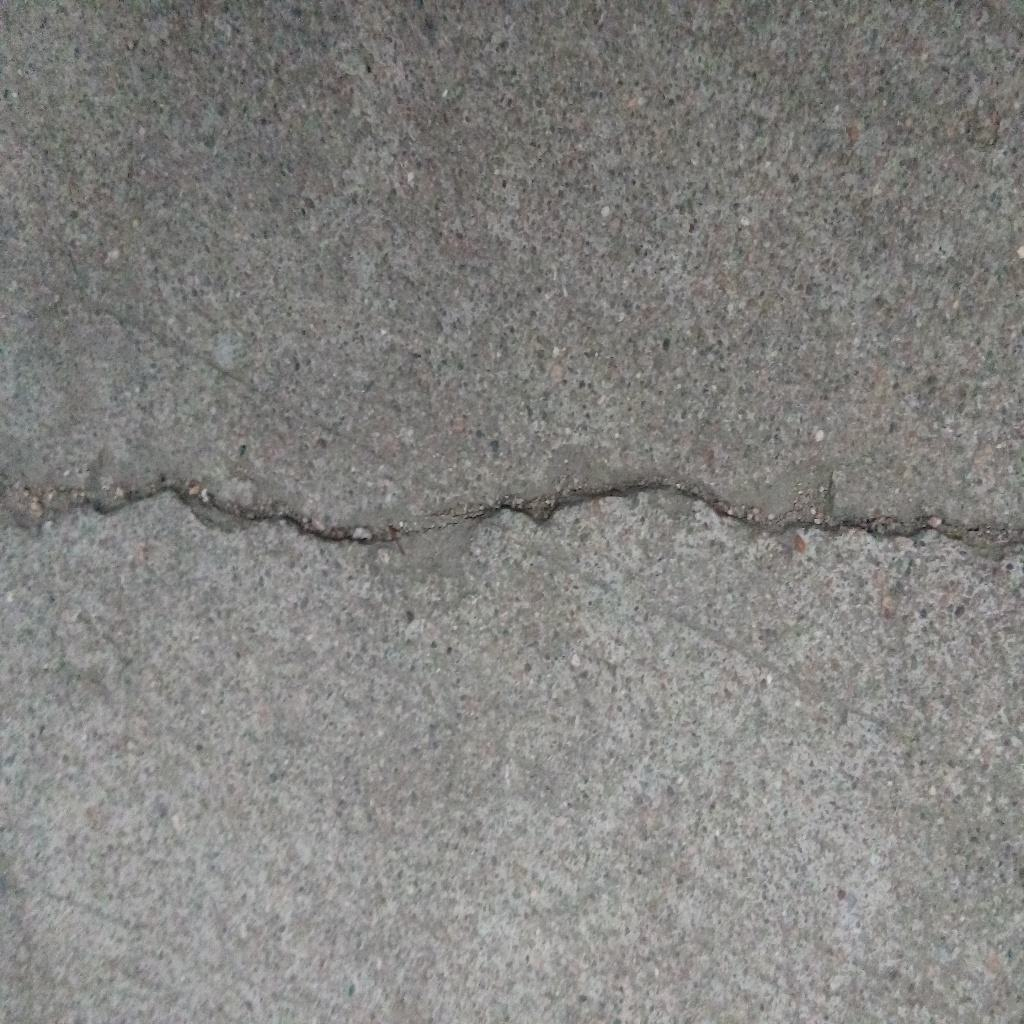Crack: (1, 469, 1024, 564)
